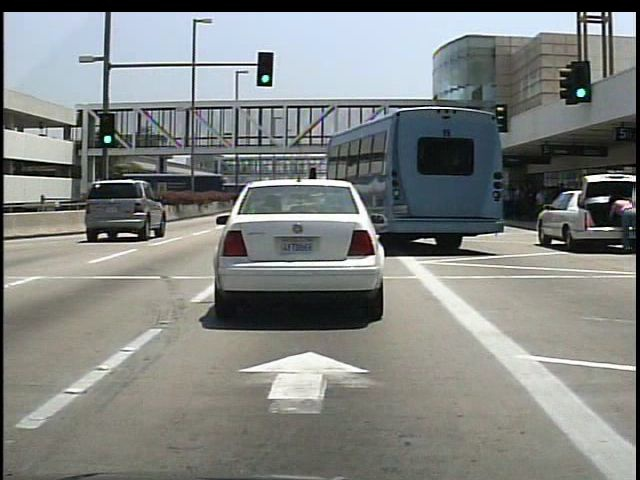person: (609, 191, 639, 254)
